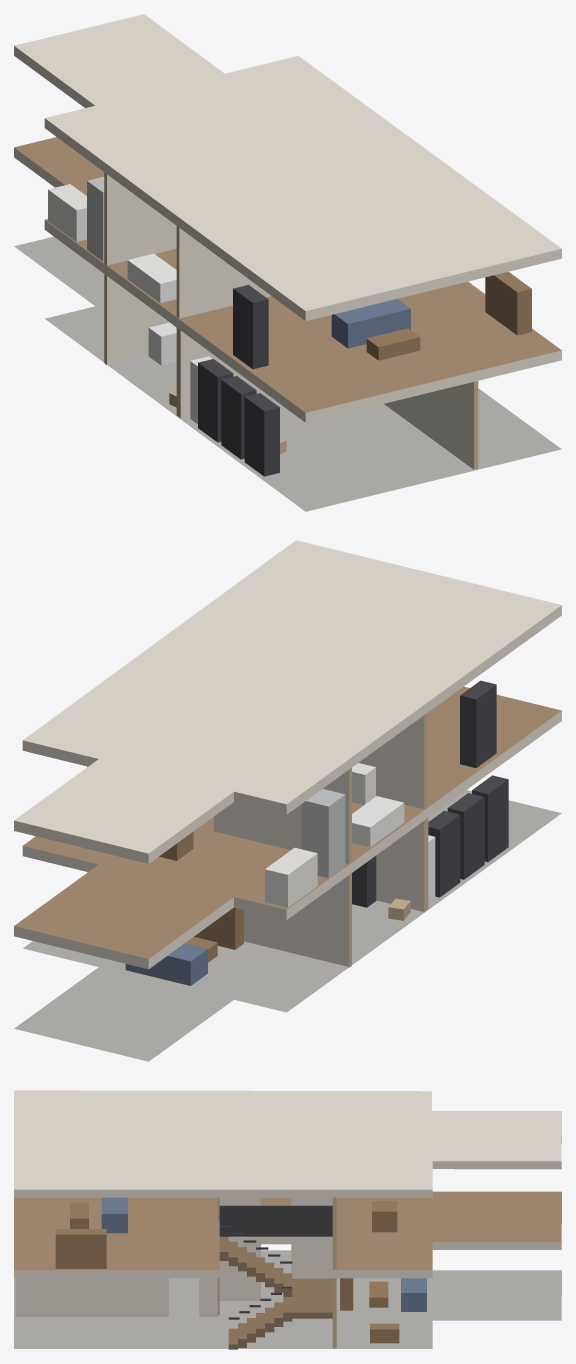
Rendered from interior.glb.
3 views of the same model, one above another, from view 1: azimuth 30°, elevation 25°; view 2: azimuth 150°, elevation 25°; view 3: azimuth 270°, elevation 25° (orthographic). The views are drawn at different scales.
Parts seen in each view (by area): view 1: slabs, partitions, coarse-s1, coarse-s0; view 2: slabs, partitions, coarse-s1, coarse-s0; view 3: slabs, partitions, stair, coarse-s1, coarse-s0.
Boxes of the visible parts, x1,y1,x2,y2 form: slabs: (14, 14, 561, 511); partitions: (104, 172, 478, 469); coarse-s1: (48, 176, 531, 369); coarse-s0: (148, 322, 286, 476); slabs: (14, 540, 561, 1061); partitions: (87, 713, 428, 967); coarse-s1: (159, 680, 496, 907); coarse-s0: (125, 775, 508, 985); slabs: (14, 1090, 561, 1348); partitions: (15, 1197, 336, 1348); stair: (219, 1205, 332, 1349); coarse-s1: (55, 1197, 397, 1268); coarse-s0: (340, 1278, 426, 1343).
Size of the model in its own units: 6.99 by 5.25 by 16.3.
